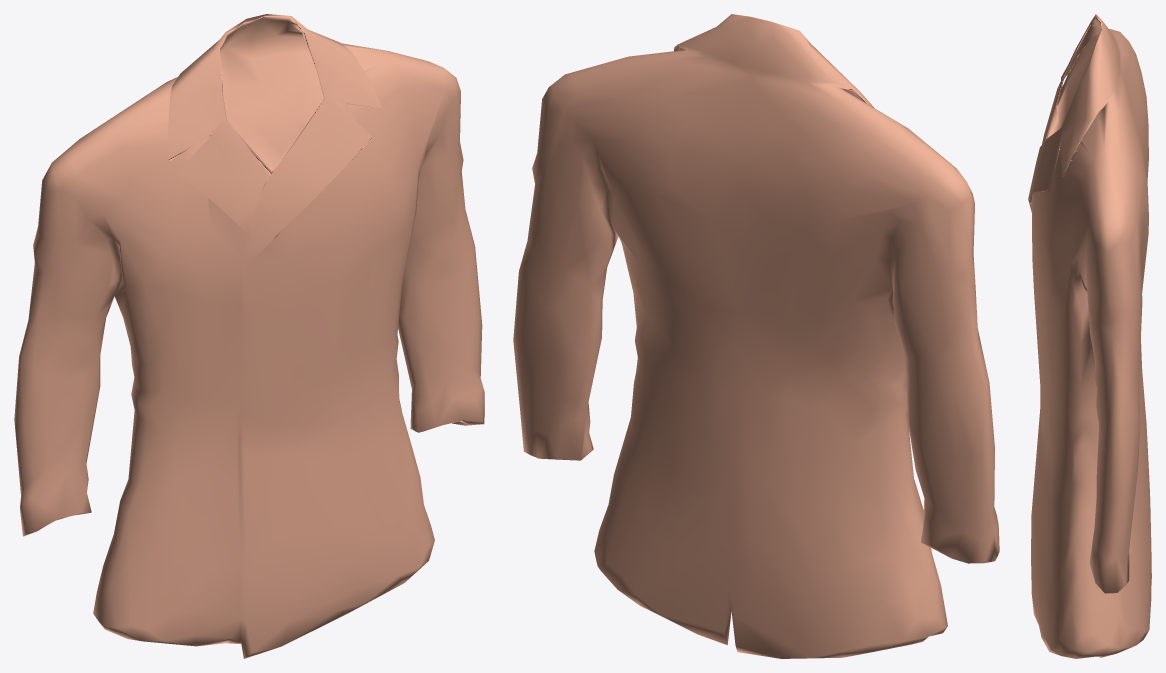
Rendered from Coat_LP.fbx.
The picture shows the model from 3 angles, left to right: view 1: azimuth 30°, elevation 25°; view 2: azimuth 150°, elevation 25°; view 3: azimuth 270°, elevation 25°; orthographic projection. The views are drawn at different scales.
Parts seen in each view (by area): view 1: Coat_HP; view 2: Coat_HP; view 3: Coat_HP.
Part boxes in pixels (x1=…): Coat_HP: x1=14, y1=14, x2=484, y2=658; Coat_HP: x1=513, y1=14, x2=999, y2=658; Coat_HP: x1=1028, y1=14, x2=1151, y2=658.
Size of the model in its own units: 73.6 by 92.13 by 17.26.
